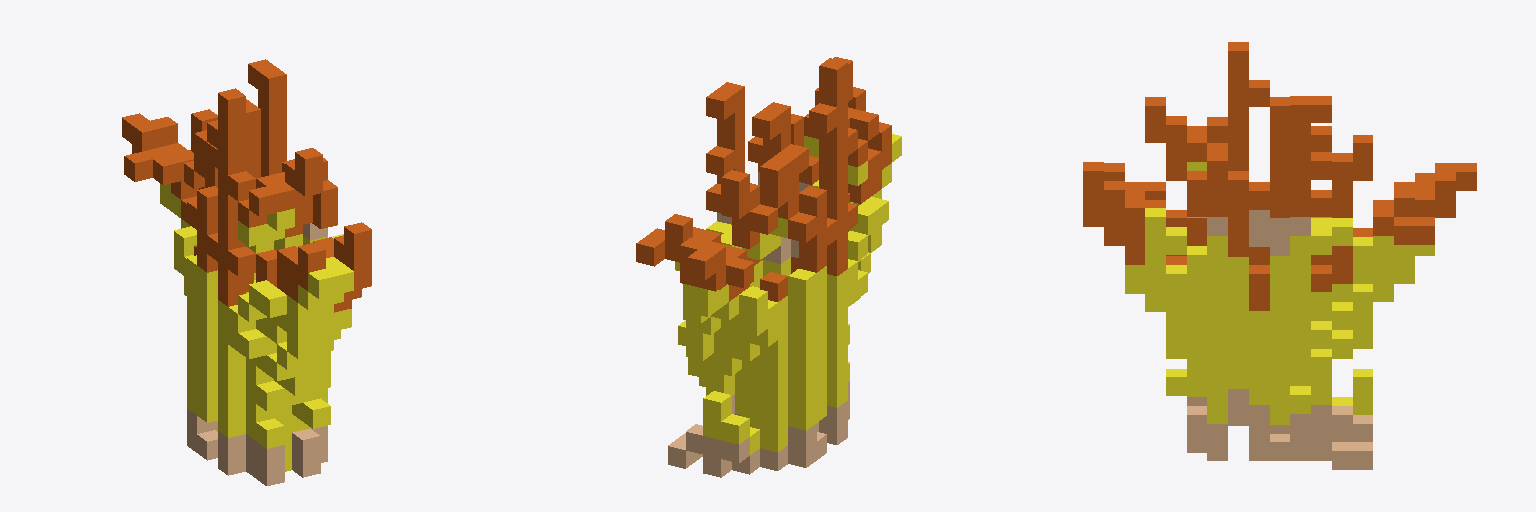
The picture shows the model from 3 angles: view 1: azimuth 30°, elevation 25°; view 2: azimuth 150°, elevation 25°; view 3: azimuth 270°, elevation 25°; orthographic projection.
Parts seen in each view (by area): view 1: object 1; view 2: object 1; view 3: object 1.
Part boxes in pixels (x1,y1,x2,y2): object 1: (122,59,371,485); object 1: (636,57,901,477); object 1: (1083,42,1476,469).
Bounding box in the file's own units: 0.6 × 2 × 1.9.
1 materials, 1 textured.